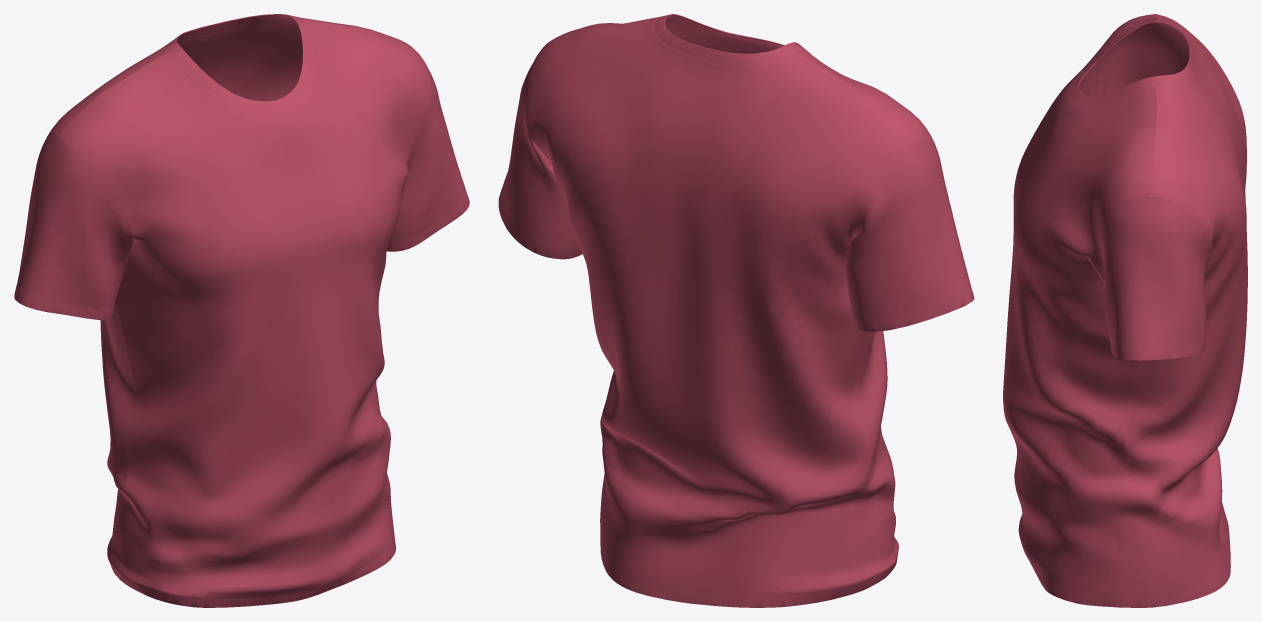
File: shirt_model.glb
3 renders of one model, left to right at view 1: azimuth 30°, elevation 25°; view 2: azimuth 150°, elevation 25°; view 3: azimuth 270°, elevation 25°, orthographic. The views are drawn at different scales.
Visible parts, largest first — view 1: t_shirt; view 2: t_shirt; view 3: t_shirt.
Part boxes in pixels (x1,y1,x2,y2): t_shirt: (14,14,469,607); t_shirt: (498,14,974,607); t_shirt: (1003,14,1247,607).
Size of the model in its own units: 2.55 by 2.84 by 1.24.
